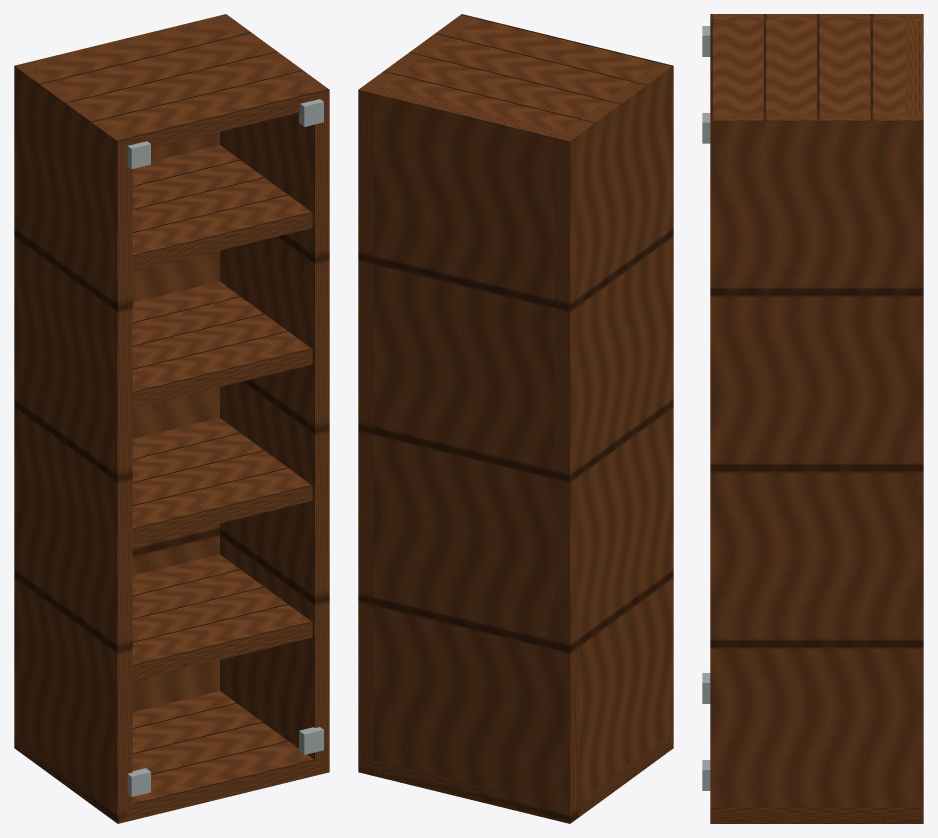
The model's file is suburban-outbreak-interiors-kitchen-larder-carcass-07cc1521__19901.glb.
The picture shows the model from 3 angles, left to right: view 1: azimuth 30°, elevation 25°; view 2: azimuth 150°, elevation 25°; view 3: azimuth 270°, elevation 25°; orthographic projection. The views are drawn at different scales.
Visible parts, largest first — view 1: kitchen-larder-carcass; view 2: kitchen-larder-carcass; view 3: kitchen-larder-carcass.
Part boxes in pixels (left/top/right/bottom): kitchen-larder-carcass: left=14, top=14, right=329, bottom=823; kitchen-larder-carcass: left=358, top=14, right=673, bottom=823; kitchen-larder-carcass: left=702, top=14, right=923, bottom=823.
Size of the model in its own units: 0.65 by 2 by 0.5711.
2 materials, 1 textured.
